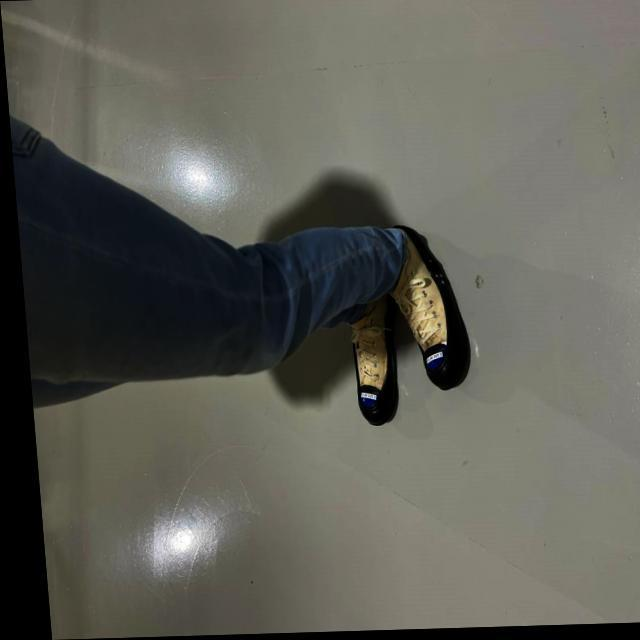shoes: (378, 222, 480, 395), (350, 310, 402, 430)
